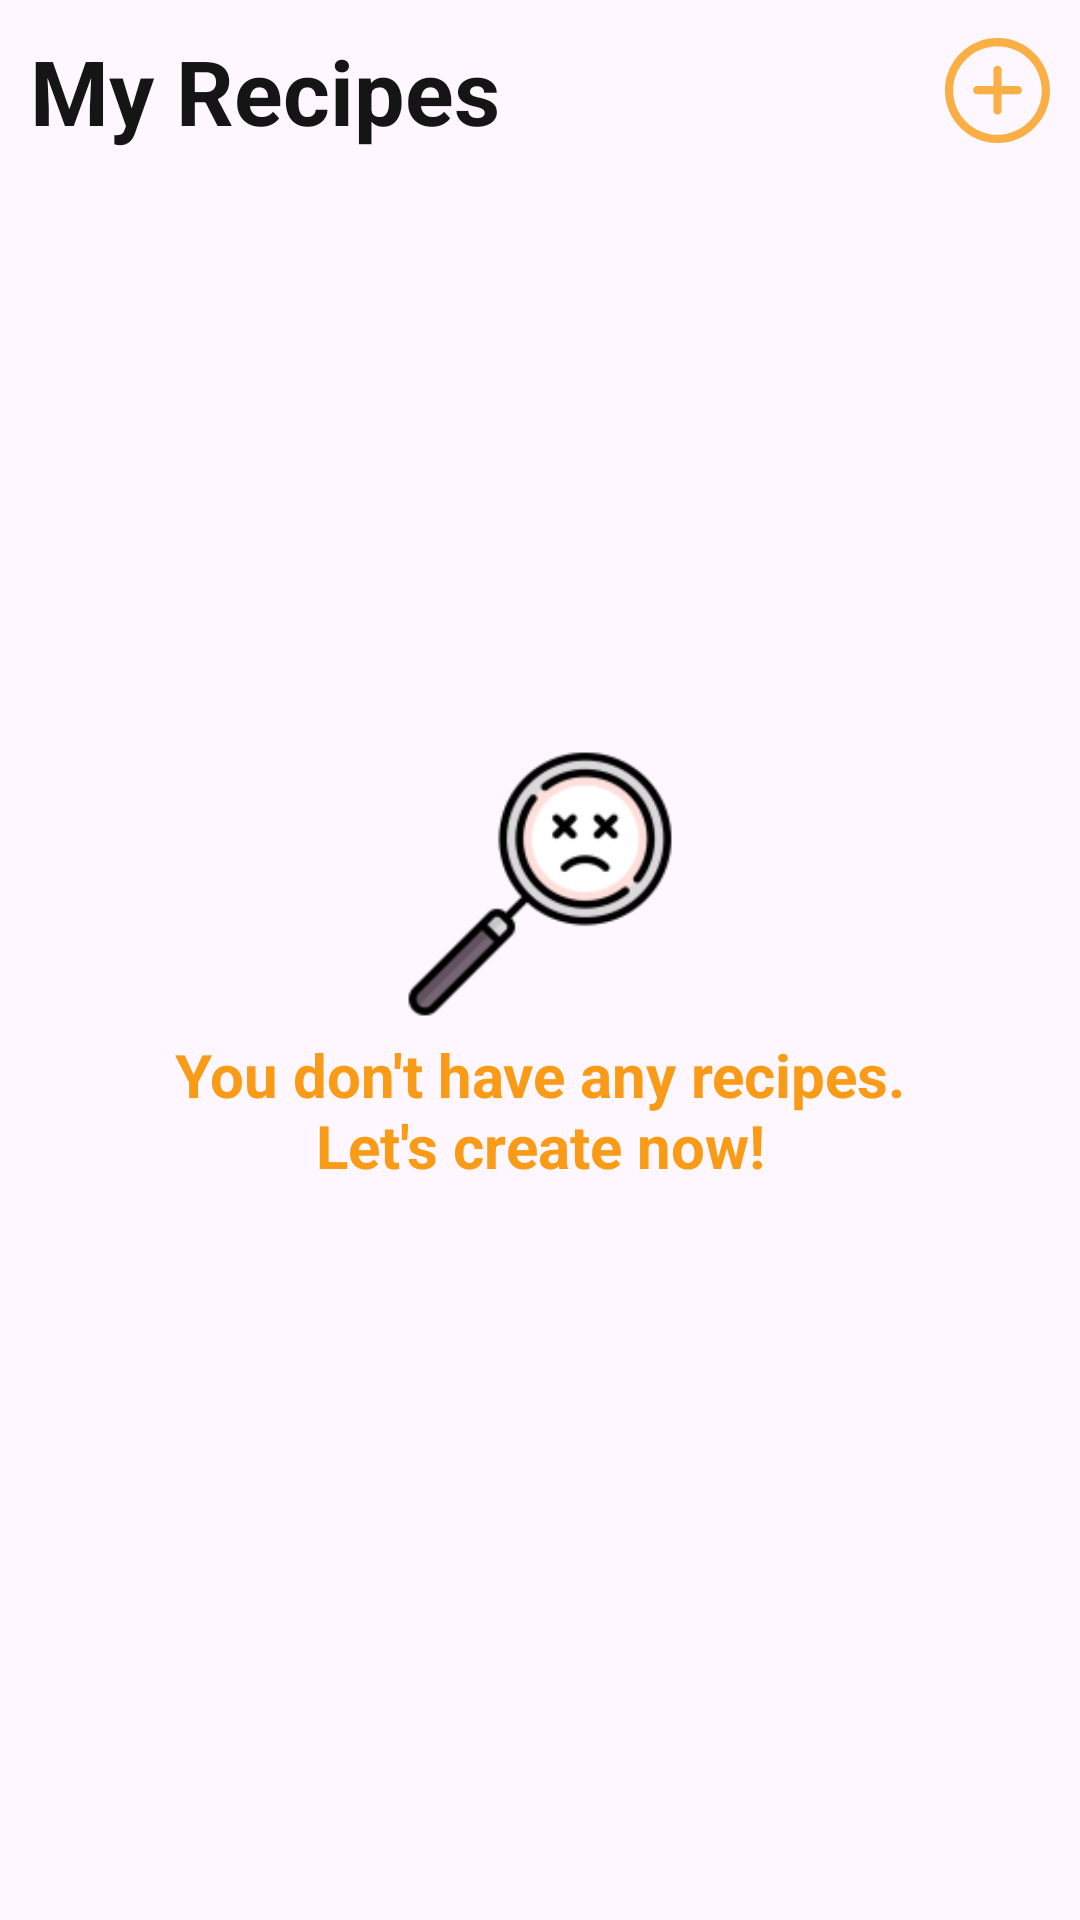

Icon bounding boxes for this 1080×1920 phone screenshot, format (x1, y1, x2, y2):
add food: (945, 38, 1050, 143)
not found: (408, 752, 672, 1016)
